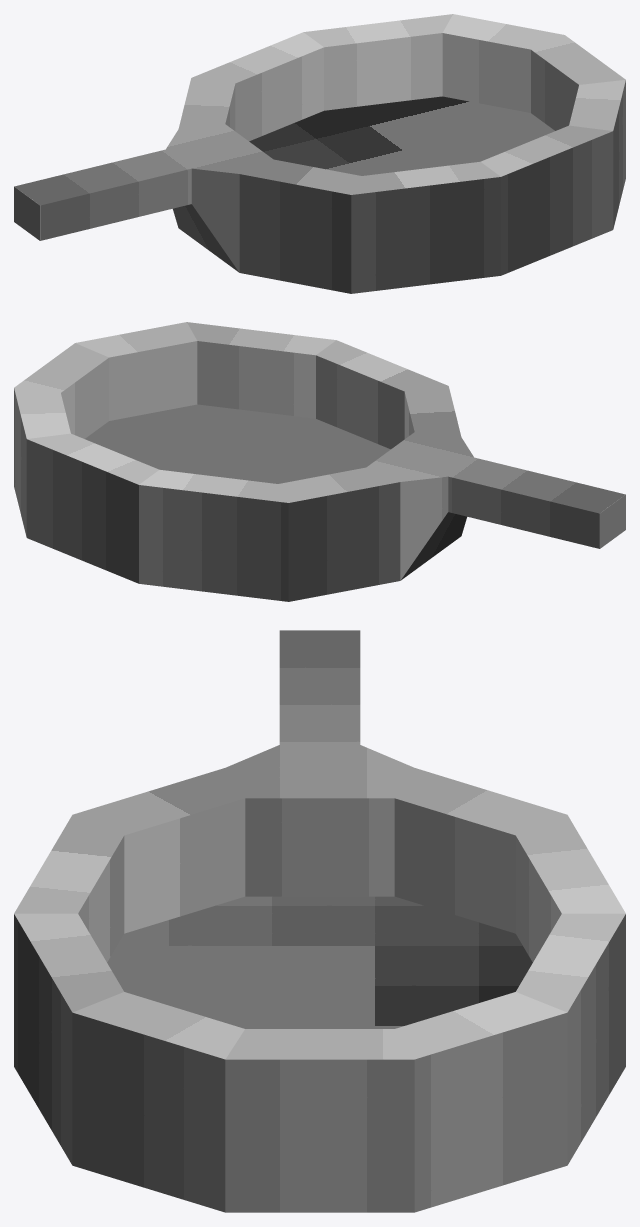
The model's file is pot_944x00.gltf.
3 views of the same model, one above another, from view 1: azimuth 30°, elevation 25°; view 2: azimuth 150°, elevation 25°; view 3: azimuth 270°, elevation 25° (orthographic). The views are drawn at different scales.
Parts seen in each view (by area): view 1: pot_944x00; view 2: pot_944x00; view 3: pot_944x00.
Part boxes in pixels (x1,y1,x2,y2): pot_944x00: [14, 14, 625, 293]; pot_944x00: [14, 322, 625, 601]; pot_944x00: [14, 630, 625, 1212].
Size of the model in its own units: 1.87 by 0.3117 by 1.13.
1 material, 1 textured.
